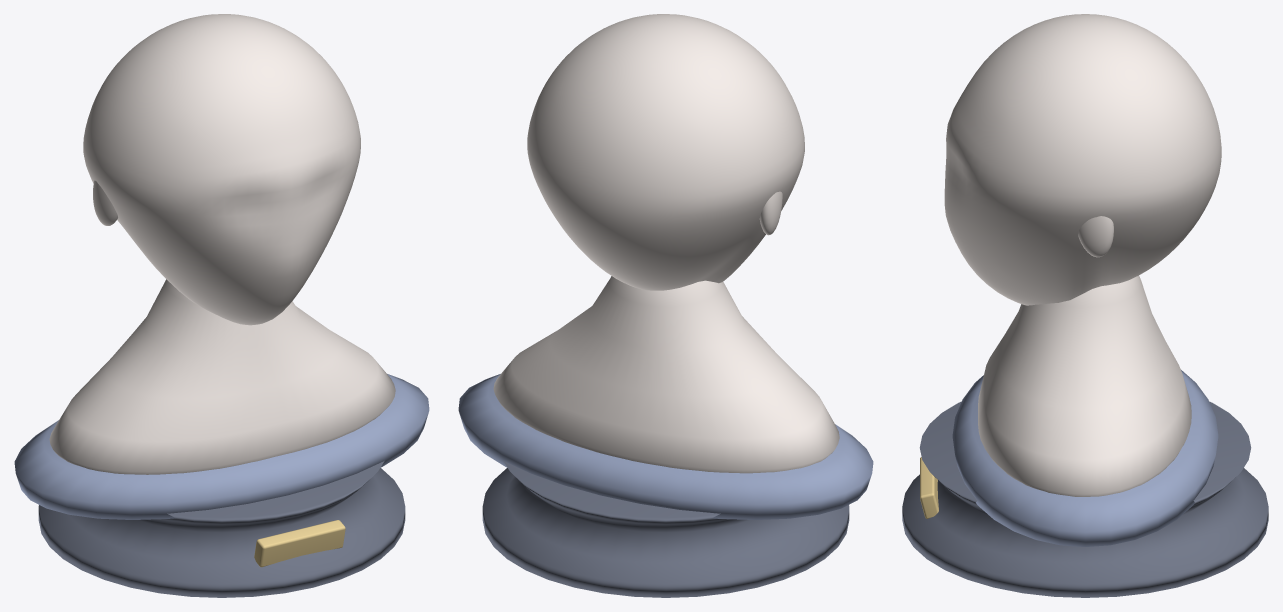
Rendered from webtoon-sculpt-head-basemesh-v13.glb.
3 views of the same model, side by side, from view 1: azimuth 30°, elevation 25°; view 2: azimuth 150°, elevation 25°; view 3: azimuth 270°, elevation 25° (orthographic).
Parts seen in each view (by area): view 1: SculptHeadBust, SculptAtelierPlinth, SculptCollarAndGuides, SculptBrassPlate; view 2: SculptHeadBust, SculptAtelierPlinth, SculptCollarAndGuides; view 3: SculptHeadBust, SculptAtelierPlinth, SculptCollarAndGuides, SculptBrassPlate.
Part boxes in pixels (box(x1,y1,x2,y2)): SculptHeadBust: box(49, 14, 395, 474); SculptAtelierPlinth: box(38, 461, 405, 597); SculptCollarAndGuides: box(14, 374, 429, 519); SculptBrassPlate: box(254, 520, 345, 567); SculptHeadBust: box(493, 14, 839, 473); SculptAtelierPlinth: box(482, 461, 849, 597); SculptCollarAndGuides: box(458, 374, 873, 519); SculptHeadBust: box(944, 14, 1221, 496); SculptAtelierPlinth: box(902, 401, 1268, 597); SculptCollarAndGuides: box(952, 370, 1218, 546); SculptBrassPlate: box(920, 457, 938, 518).
Size of the model in its own units: 0.7074 by 0.8482 by 0.57.
